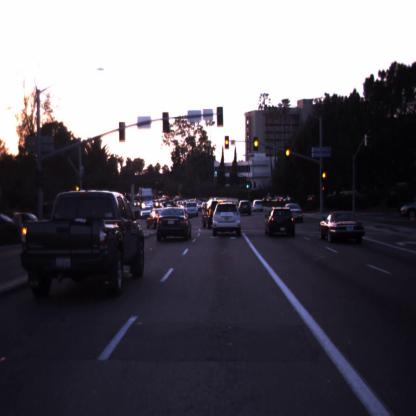trafficlight: (284, 144, 290, 162), (224, 134, 230, 150), (322, 166, 327, 183), (253, 137, 258, 151), (246, 180, 250, 190), (214, 166, 218, 175)
